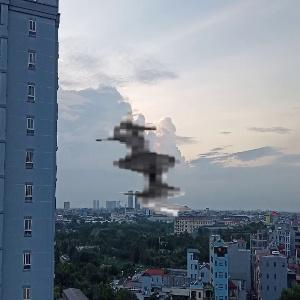drone: (89, 99, 219, 229)
